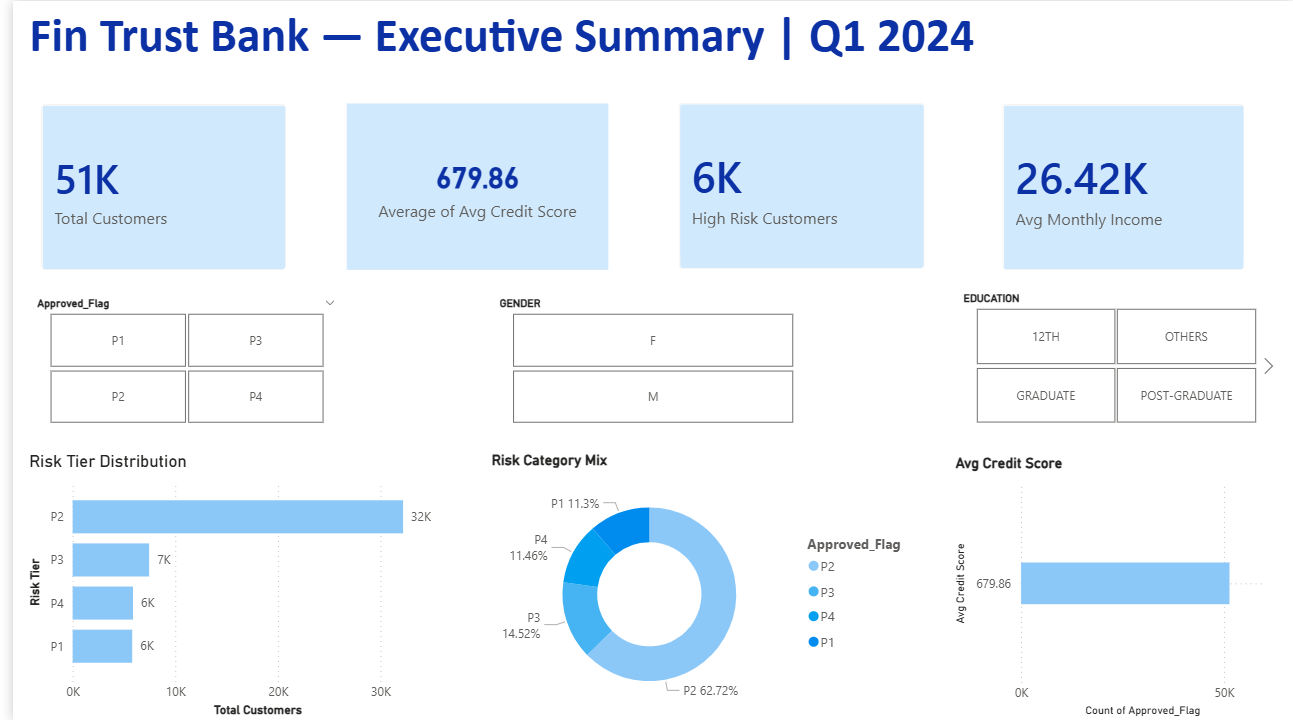

The dashboard page shown, as its layout file describes it:
{"tool":"powerbi","page":{"name":" Executive Summary","canvas":[1280,720],"ordinal":0},"visuals":[{"type":"cardVisual","fields":{"Data":["fintrust_db external_cibil_data.Total Customers"]},"box":[10.9,85.7,279.9,200.3],"z":0},{"type":"cardVisual","fields":{"Data":["fintrust_db external_cibil_data.High Risk Customers"]},"box":[649.3,85.6,280,200.5],"z":1000},{"type":"cardVisual","fields":{"Data":["fintrust_db external_cibil_data.Avg Monthly Income"]},"box":[972.4,85.7,276.3,200.3],"z":2000},{"type":"clusteredBarChart","title":" Risk Tier Distribution","fields":{"Category":["fintrust_db external_cibil_data.Approved_Flag"],"Y":["fintrust_db external_cibil_data.Total Customers"]},"box":[10.9,450,434.3,270.2],"z":3000},{"type":"clusteredBarChart","title":"Avg Credit Score","fields":{"Y":["CountNonNull(fintrust_db external_cibil_data.Approved_Flag)"],"Category":["fintrust_db external_cibil_data.Avg Credit Score"]},"box":[937.4,453.6,329.4,266.6],"z":4000},{"type":"donutChart","title":"Risk Category Mix","fields":{"Category":["fintrust_db external_cibil_data.Approved_Flag"],"Y":["fintrust_db external_cibil_data.Total Customers"]},"box":[474.1,450,435.5,270.2],"z":5000},{"type":"slicer","title":"Ris","fields":{"Values":["fintrust_db external_cibil_data.Approved_Flag"]},"box":[10.9,290.8,323.3,137.5],"z":6000},{"type":"slicer","fields":{"Values":["fintrust_db external_cibil_data.GENDER"]},"box":[474.1,290.8,330.6,137.5],"z":7000},{"type":"slicer","fields":{"Values":["fintrust_db external_cibil_data.EDUCATION"]},"box":[937.4,285.9,329.4,142.4],"z":8000},{"type":"textbox","box":[10.9,0,1201.6,73.6],"z":9000},{"type":"card","fields":{"Values":["Avg(fintrust_db external_cibil_data.Avg Credit Score)"]},"box":[334.2,102.5,261.8,166.5],"z":10000}]}

Visuals, with their boxes in screenshot pixels (x1, y1, x2, y2), scaled from the page's 1280x720 canvas onto the 1293x720 screenshot:
cardVisual - fintrust_db external_cibil_data.Total Customers: (left=11, top=86, right=294, bottom=286)
cardVisual - fintrust_db external_cibil_data.High Risk Customers: (left=656, top=86, right=939, bottom=286)
cardVisual - fintrust_db external_cibil_data.Avg Monthly Income: (left=982, top=86, right=1261, bottom=286)
" Risk Tier Distribution" clusteredBarChart: (left=11, top=450, right=450, bottom=719)
"Avg Credit Score" clusteredBarChart: (left=947, top=454, right=1280, bottom=719)
"Risk Category Mix" donutChart: (left=479, top=450, right=919, bottom=719)
"Ris" slicer: (left=11, top=291, right=338, bottom=428)
slicer - fintrust_db external_cibil_data.GENDER: (left=479, top=291, right=813, bottom=428)
slicer - fintrust_db external_cibil_data.EDUCATION: (left=947, top=286, right=1280, bottom=428)
textbox: (left=11, top=0, right=1225, bottom=74)
card - Avg(fintrust_db external_cibil_data.Avg Credit Score): (left=338, top=102, right=602, bottom=269)
